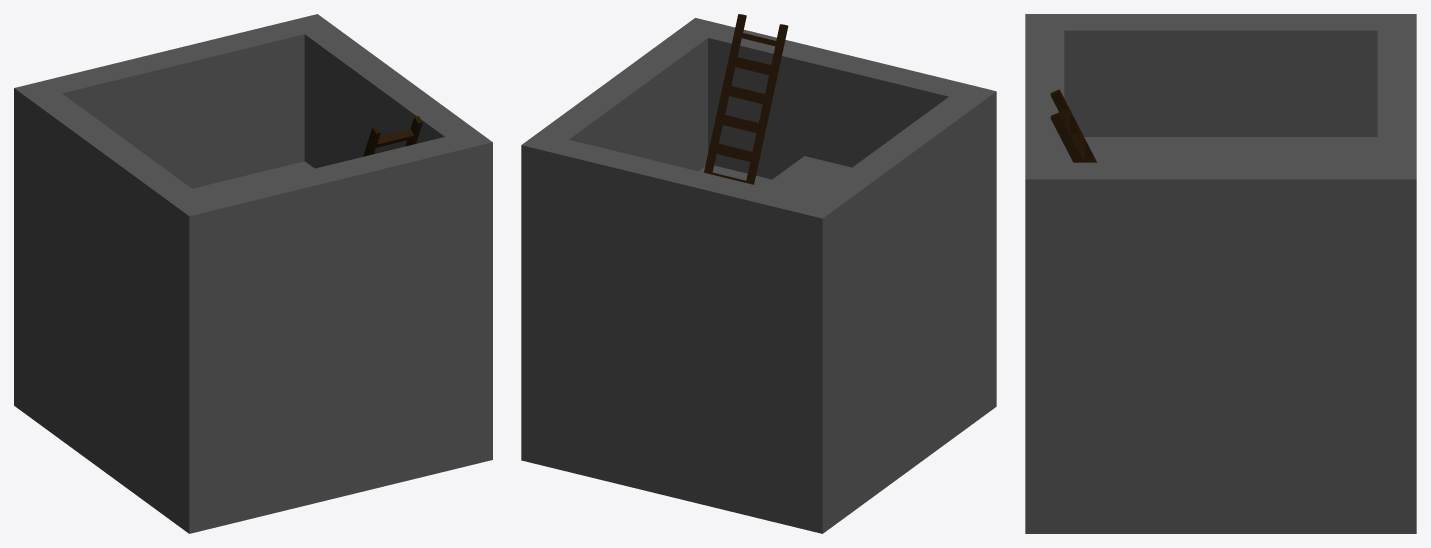
Rendered from Quarry1.obj.
3 views of the same model, side by side, from view 1: azimuth 30°, elevation 25°; view 2: azimuth 150°, elevation 25°; view 3: azimuth 270°, elevation 25° (orthographic). The views are drawn at different scales.
Visible parts, largest first — view 1: Tilebase122, Ladder003; view 2: Tilebase122, Ladder003; view 3: Tilebase122, Ladder003.
Part boxes in pixels (bbox=[...]): Tilebase122: bbox=[14, 14, 492, 533]; Ladder003: bbox=[363, 116, 422, 156]; Tilebase122: bbox=[521, 18, 996, 533]; Ladder003: bbox=[704, 14, 788, 184]; Tilebase122: bbox=[1025, 14, 1416, 533]; Ladder003: bbox=[1050, 89, 1096, 162].
Bounding box in the file's own units: 10 × 10.92 × 10.
